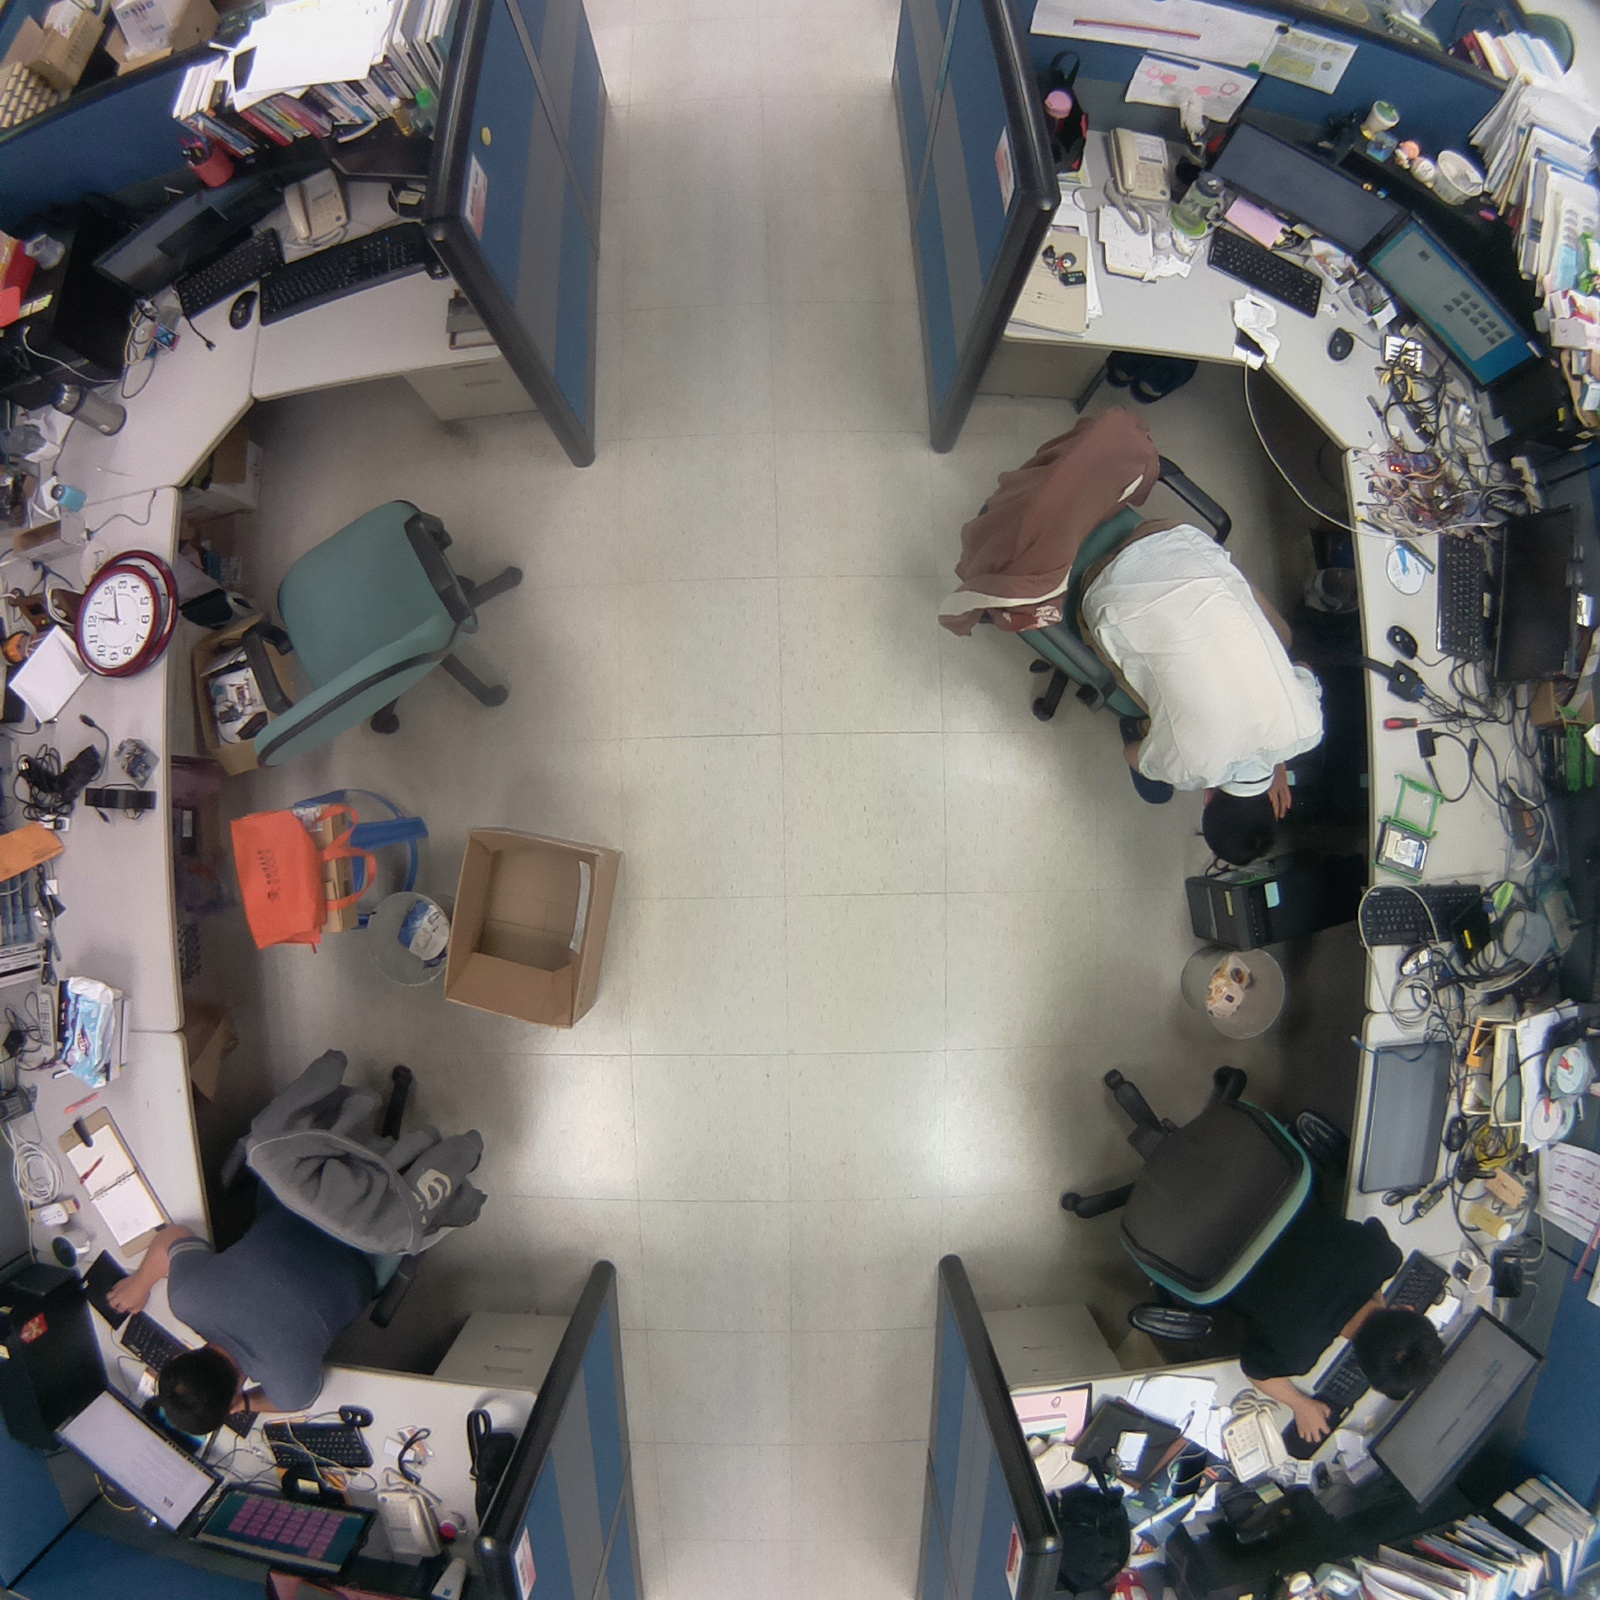chair: (229, 481, 540, 783)
head: (1343, 1296, 1448, 1406), (131, 1345, 250, 1437), (1194, 778, 1292, 869)
sitting: (924, 391, 1335, 873), (1040, 1034, 1455, 1452), (104, 1029, 501, 1450)
